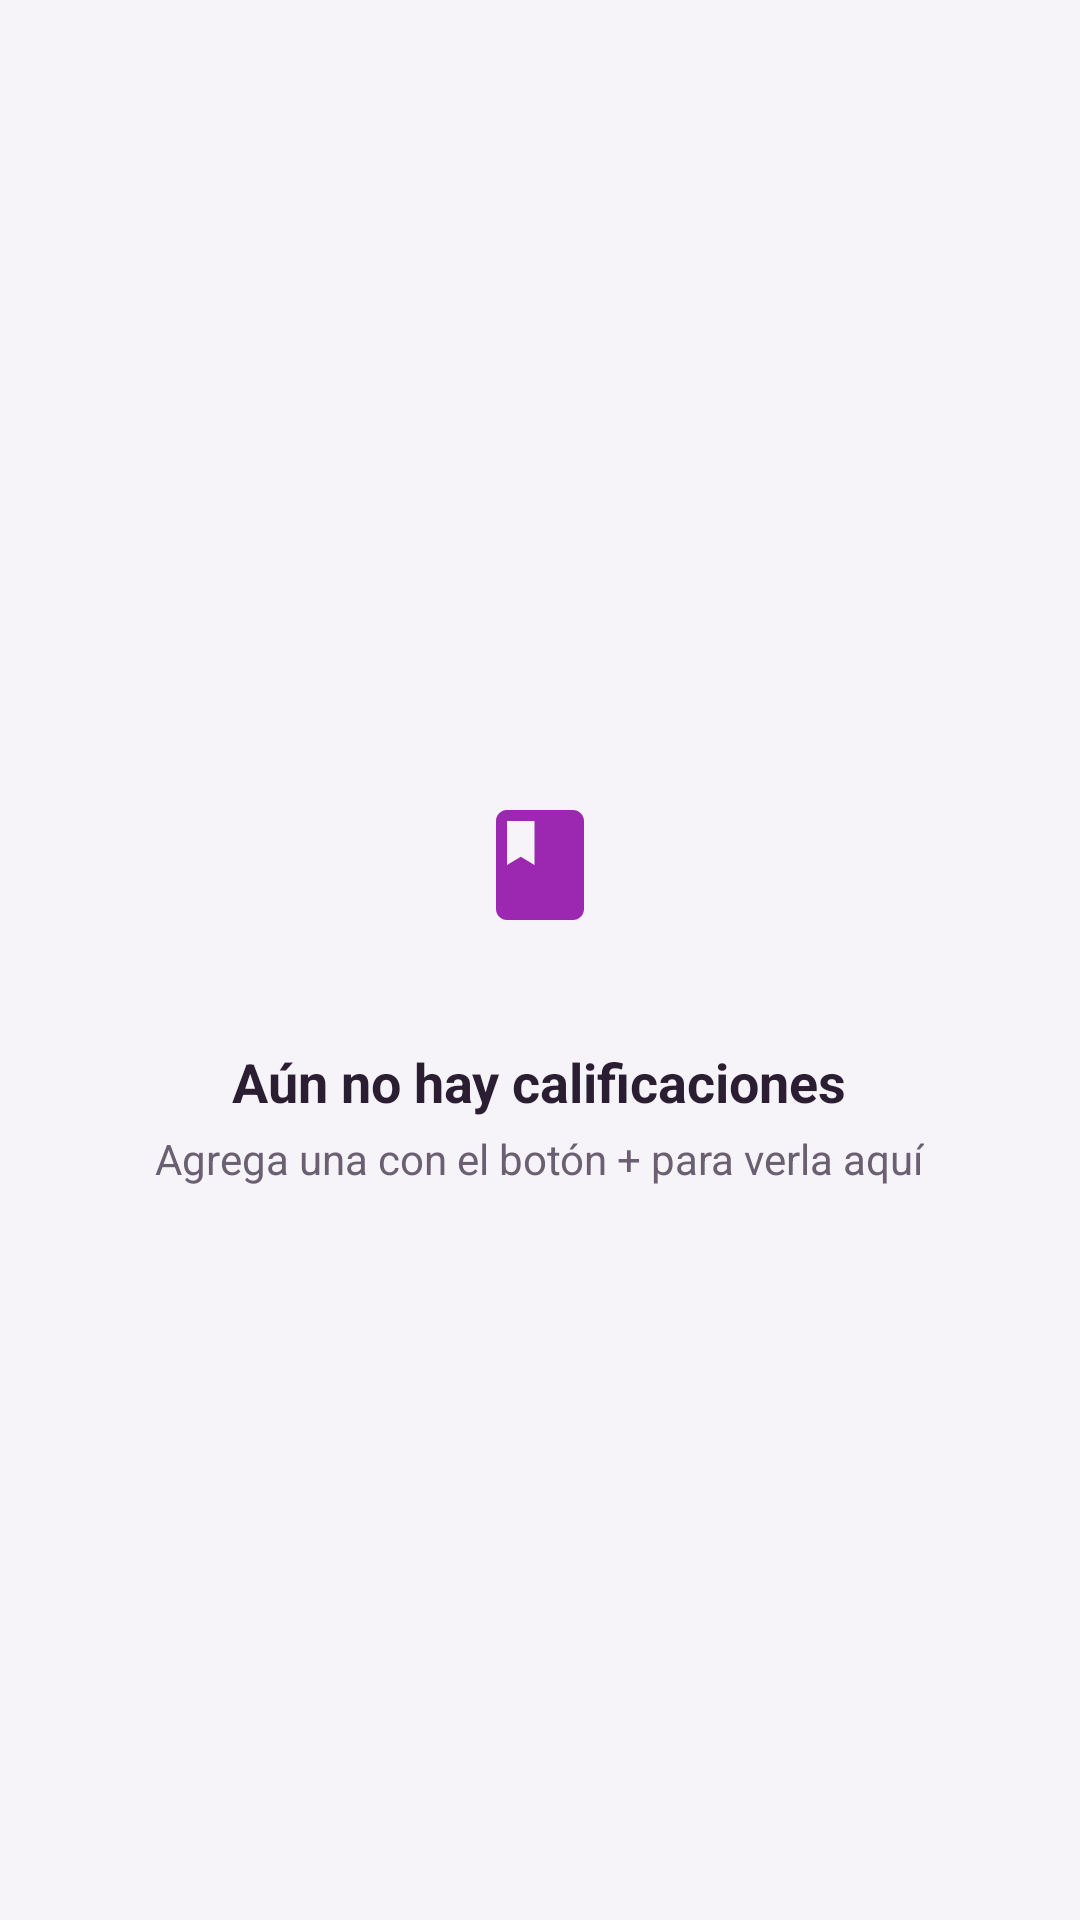

Named icons in this screenshot (1080 × 1920) and their centers, (x=x, y=y):
gami nota: (x=540, y=865)
